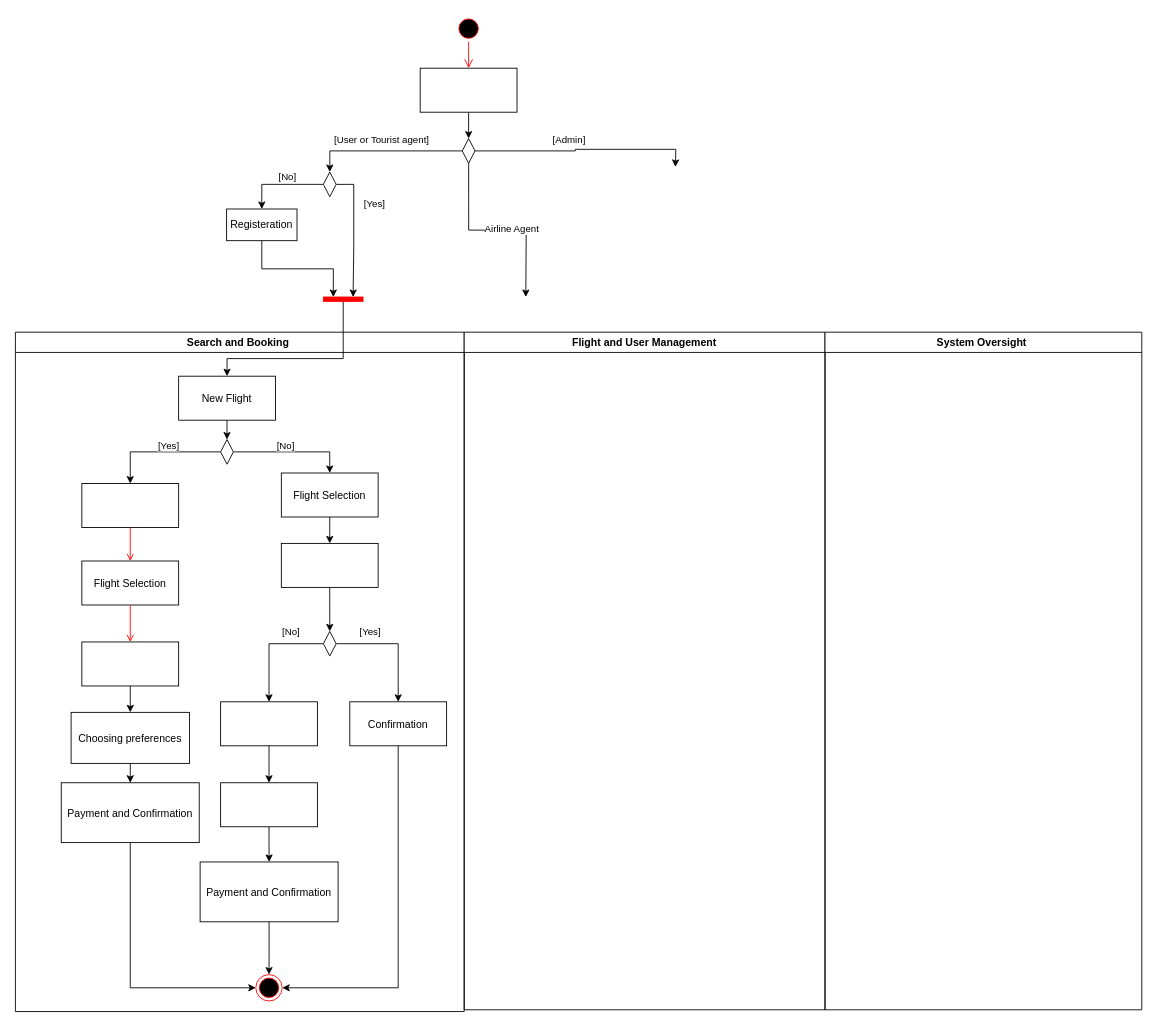
Image size: 1157x1027. Some labels were removed from this diagram. The centre of each missing label's shape, as x and y in pixels:
"Cancel Flight" belongs at (x=329, y=565).
"Change preferences" belongs at (x=268, y=804).
"Change Seat" belongs at (x=268, y=723).
"Flight Search" belongs at (x=130, y=505).
"Login" belongs at (x=468, y=89).
"Seat Selection" belongs at (x=130, y=663).
